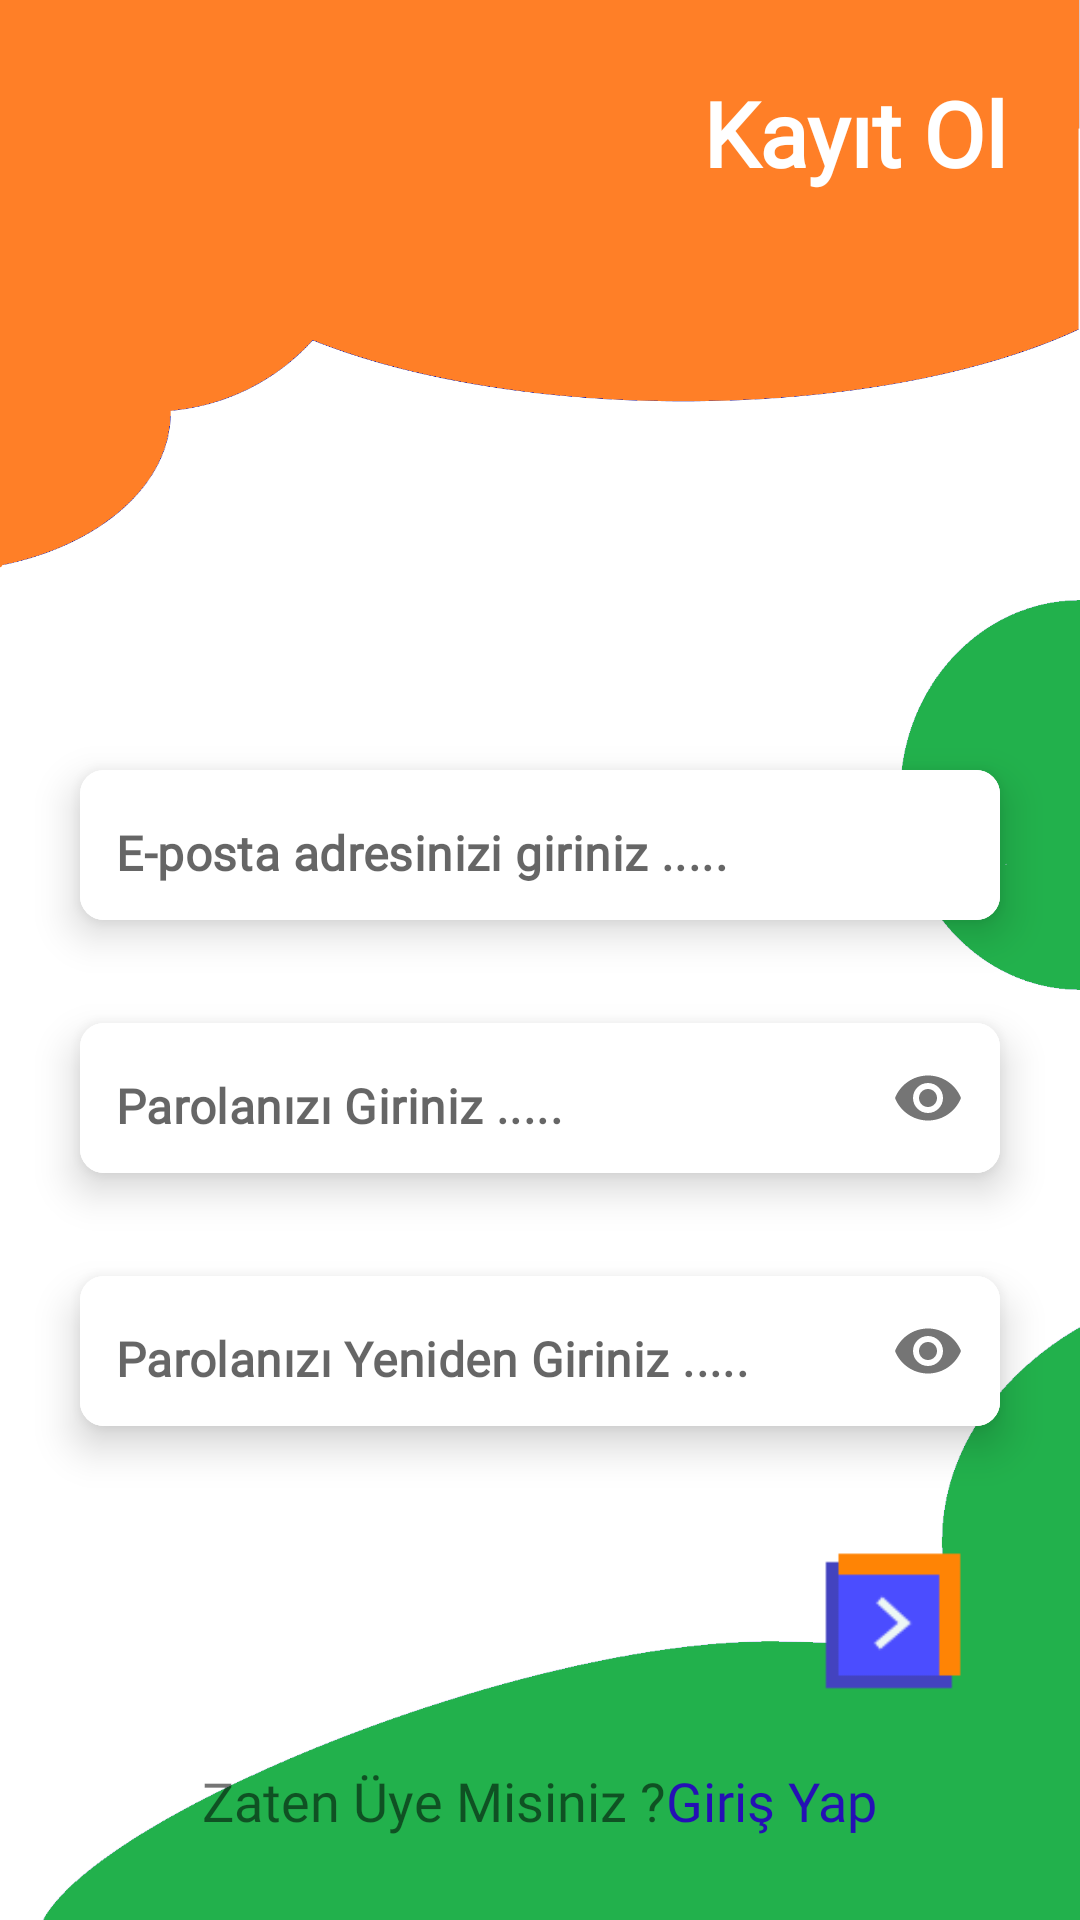

Icons on this 1080×1920 Android screen, each with its box as BBox(x1, y1, x2, y2):
giris buton: BBox(786, 1518, 961, 1689)
